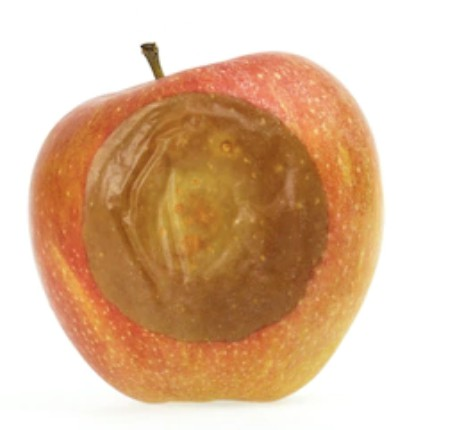rotten_apple: (21, 44, 384, 407)
